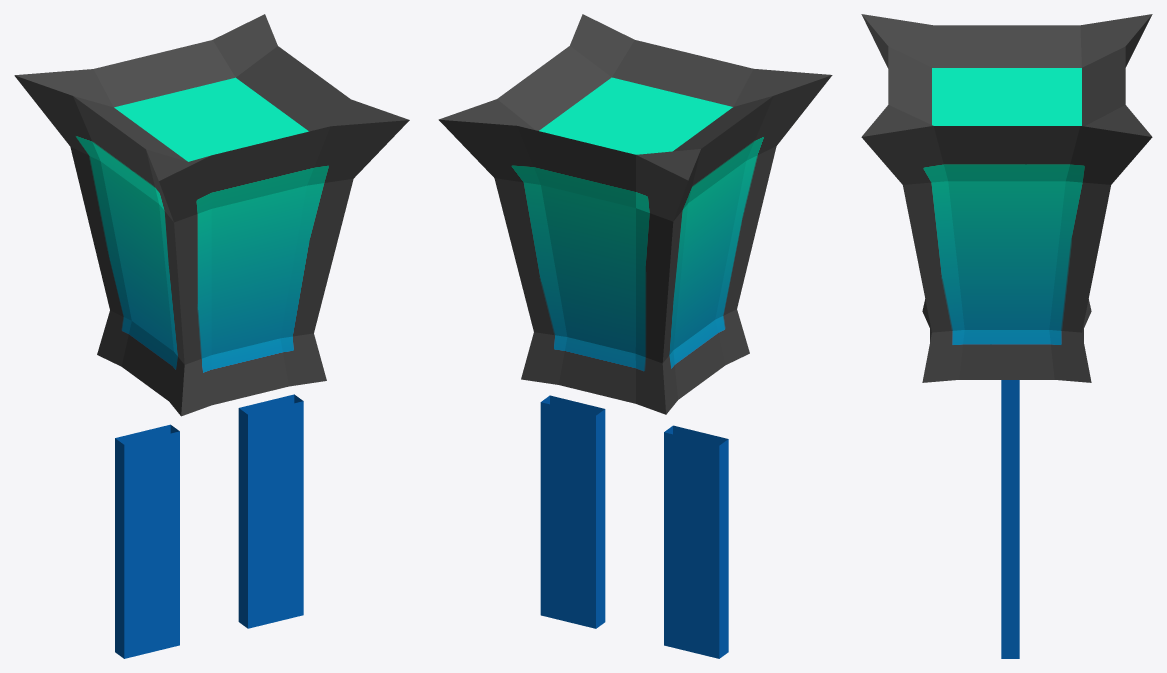
Rendered from LanternCube.fbx.
The picture shows the model from 3 angles, left to right: view 1: azimuth 30°, elevation 25°; view 2: azimuth 150°, elevation 25°; view 3: azimuth 270°, elevation 25°; orthographic projection.
Visible parts, largest first — view 1: XPLantern; view 2: XPLantern; view 3: XPLantern.
Boxes of the visible parts, x1,y1,x2,y2 form: XPLantern: (14, 14, 409, 658); XPLantern: (438, 14, 832, 658); XPLantern: (861, 14, 1152, 658).
Bounding box in the file's own units: 54.91 × 112 × 54.91.
